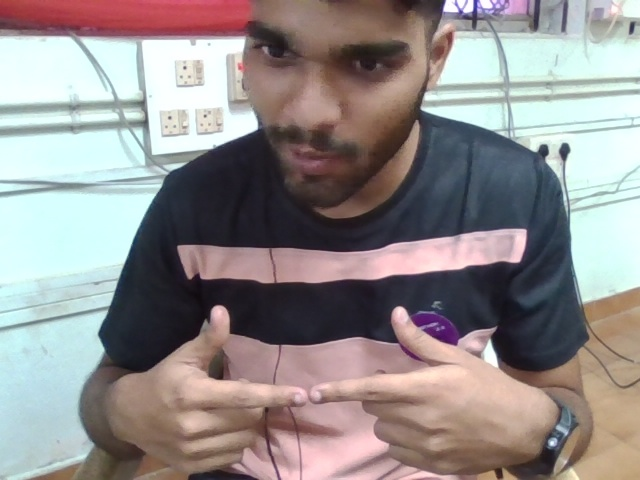hurt: (109, 275, 591, 478)
